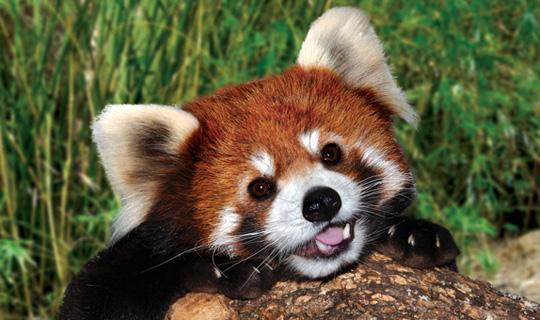raccoon: (62, 5, 467, 319)
